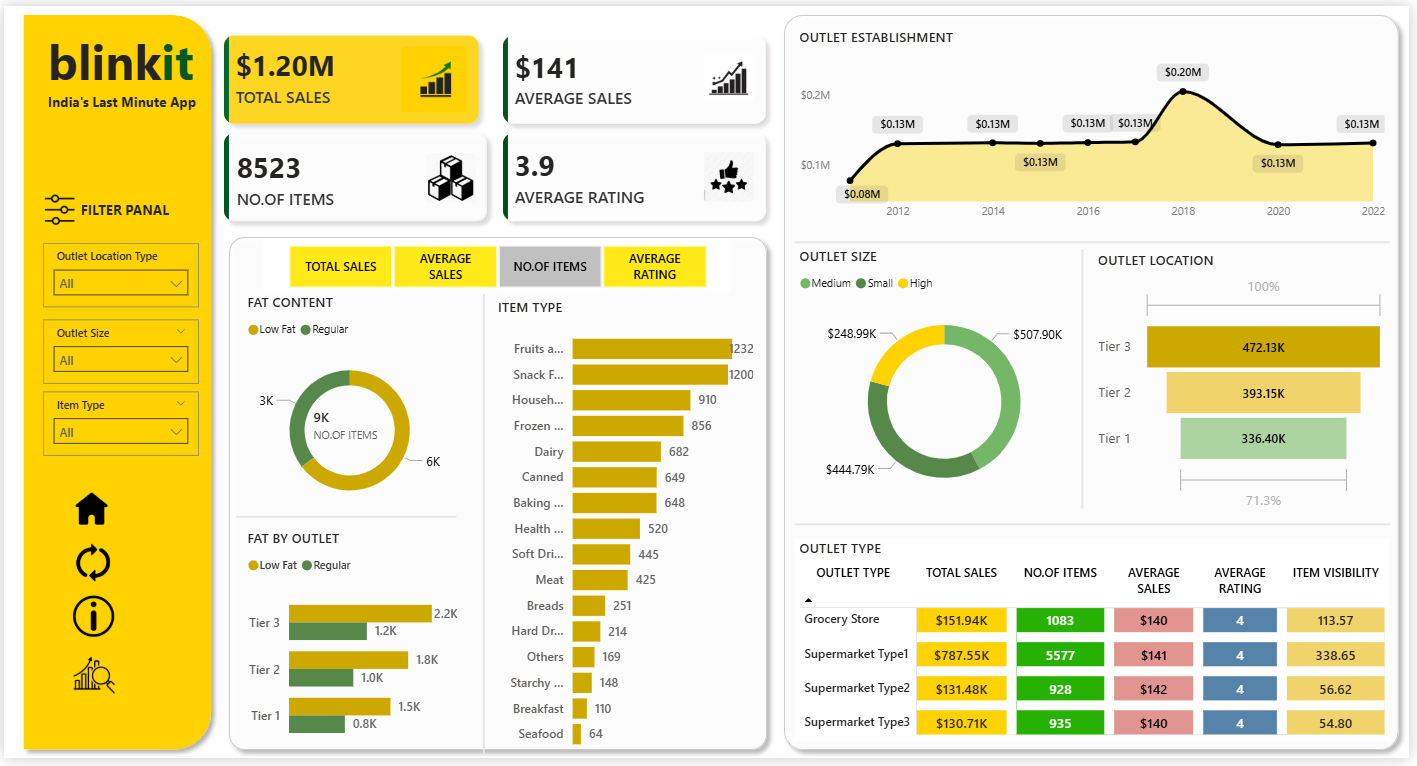

Layout of this report page (visuals, bound fields, positions):
{"tool":"powerbi","page":{"name":"Page 1","canvas":[1400,750],"ordinal":0},"visuals":[{"type":"shape","box":[10,0,205,750],"z":0},{"type":"textbox","box":[39.3,16.5,194.3,121.9],"z":1000},{"type":"cardVisual","fields":{"Data":["BlinkIT Grocery Data.Total Sales"]},"box":[190.2,0,312.1,146.8],"z":2000},{"type":"cardVisual","fields":{"Data":["BlinkIT Grocery Data.Avg Sales"]},"box":[467.1,0,320,146.8],"z":3000},{"type":"cardVisual","fields":{"Data":["BlinkIT Grocery Data.No.of Items"]},"box":[190.2,97.1,320,146.8],"z":4000},{"type":"cardVisual","fields":{"Data":["BlinkIT Grocery Data.Avg Rating"]},"box":[467.1,97.1,320,146.8],"z":5000},{"type":"shape","box":[215,221.2,553.9,529.1],"z":6000},{"type":"donutChart","title":"FAT CONTENT","fields":{"Y":["BlinkIT Grocery Data.NO.OF ITEMS"],"Category":["BlinkIT Grocery Data.Item Fat Content"]},"box":[237.7,285.2,212.9,229.4],"z":7000},{"type":"slicer","fields":{"Values":["Matrics.Matrics"]},"box":[258.4,231.5,465.1,53.7],"z":8000},{"type":"cardVisual","fields":{"Data":["BlinkIT Grocery Data.NO.OF ITEMS"]},"box":[279,374.1,142.6,86.8],"z":9000},{"type":"clusteredBarChart","title":"FAT BY OUTLET","fields":{"Y":["BlinkIT Grocery Data.NO.OF ITEMS"],"Category":["BlinkIT Grocery Data.Outlet Location Type"],"Series":["BlinkIT Grocery Data.Item Fat Content"]},"box":[237.7,520.9,219.1,229.4],"z":10000},{"type":"shape","box":[231.5,500.2,219.1,16.5],"z":11000},{"type":"shape","box":[467.1,287.3,20.7,458.9],"z":12000},{"type":"barChart","title":"ITEM TYPE","fields":{"Y":["BlinkIT Grocery Data.NO.OF ITEMS"],"Category":["BlinkIT Grocery Data.Item Type"]},"box":[487.8,289.4,264.6,460.9],"z":13000},{"type":"shape","box":[768.9,0,630.4,750.3],"z":14000},{"type":"lineChart","title":"OUTLET ESTABLISHMENT","fields":{"Category":["BlinkIT Grocery Data.Outlet Establishment Year"],"Y":["BlinkIT Grocery Data.TOTAL SALES"]},"box":[787.5,20.7,593.2,200.5],"z":15000},{"type":"shape","box":[787.5,227.4,593.2,16.5],"z":16000},{"type":"donutChart","title":"OUTLET SIZE","fields":{"Y":["BlinkIT Grocery Data.TOTAL SALES"],"Category":["BlinkIT Grocery Data.Outlet Size"]},"box":[787.5,239.8,297.6,264.6],"z":17000},{"type":"shape","box":[1064.5,241.8,20.7,258.4],"z":18000},{"type":"funnel","title":"OUTLET LOCATION","fields":{"Y":["Sum(BlinkIT Grocery Data.Sales)"],"Category":["BlinkIT Grocery Data.Outlet Location Type"]},"box":[1085.1,243.9,295.6,264.6],"z":19000},{"type":"shape","box":[787.5,508.5,593.2,16.5],"z":20000},{"type":"pivotTable","title":"OUTLET TYPE","fields":{"Rows":["BlinkIT Grocery Data.Outlet Type"],"Values":["BlinkIT Grocery Data.TOTAL SALES","BlinkIT Grocery Data.NO.OF ITEMS","BlinkIT Grocery Data.AVERAGE SALES","BlinkIT Grocery Data.AVERAGE RATING","Sum(BlinkIT Grocery Data.Item Visibility)"]},"box":[787.5,531.2,593.2,202.6],"z":21000},{"type":"slicer","fields":{"Values":["BlinkIT Grocery Data.Outlet Location Type"]},"box":[39.3,235.6,155,64.1],"z":22000},{"type":"slicer","fields":{"Values":["BlinkIT Grocery Data.Outlet Size"]},"box":[39.3,312.1,155,64.1],"z":23000},{"type":"slicer","fields":{"Values":["BlinkIT Grocery Data.Item Type"]},"box":[39.3,384.5,155,64.1],"z":24000},{"type":"textbox","box":[72.3,188.1,128.2,47.5],"z":25000},{"type":"image","box":[39.3,186,33.1,35.1],"z":26000},{"type":"image","box":[55.8,465.1,64.1,72.3],"z":26001},{"type":"image","box":[70.3,531.2,37.2,47.5],"z":26002},{"type":"image","box":[57.9,584.9,62,47.5],"z":26003},{"type":"image","box":[41.4,631.8,95.9,69.7],"z":26004}]}

Visuals, with their boxes in screenshot pixels (x1, y1, x2, y2), scaled from the page's 1400x750 canvas onto the 1417x766 screenshot:
shape: select_region(10, 0, 218, 765)
textbox: select_region(40, 17, 236, 141)
cardVisual - BlinkIT Grocery Data.Total Sales: select_region(193, 0, 508, 150)
cardVisual - BlinkIT Grocery Data.Avg Sales: select_region(473, 0, 797, 150)
cardVisual - BlinkIT Grocery Data.No.of Items: select_region(193, 99, 516, 249)
cardVisual - BlinkIT Grocery Data.Avg Rating: select_region(473, 99, 797, 249)
shape: select_region(218, 226, 778, 765)
"FAT CONTENT" donutChart: select_region(241, 291, 456, 526)
slicer - Matrics.Matrics: select_region(262, 236, 732, 291)
cardVisual - BlinkIT Grocery Data.NO.OF ITEMS: select_region(282, 382, 427, 471)
"FAT BY OUTLET" clusteredBarChart: select_region(241, 532, 462, 765)
shape: select_region(234, 511, 456, 528)
shape: select_region(473, 293, 494, 762)
"ITEM TYPE" barChart: select_region(494, 296, 762, 765)
shape: select_region(778, 0, 1416, 765)
"OUTLET ESTABLISHMENT" lineChart: select_region(797, 21, 1397, 226)
shape: select_region(797, 232, 1397, 249)
"OUTLET SIZE" donutChart: select_region(797, 245, 1098, 515)
shape: select_region(1077, 247, 1098, 511)
"OUTLET LOCATION" funnel: select_region(1098, 249, 1397, 519)
shape: select_region(797, 519, 1397, 536)
"OUTLET TYPE" pivotTable: select_region(797, 543, 1397, 749)
slicer - BlinkIT Grocery Data.Outlet Location Type: select_region(40, 241, 197, 306)
slicer - BlinkIT Grocery Data.Outlet Size: select_region(40, 319, 197, 384)
slicer - BlinkIT Grocery Data.Item Type: select_region(40, 393, 197, 458)
textbox: select_region(73, 192, 203, 241)
image: select_region(40, 190, 73, 226)
image: select_region(56, 475, 121, 549)
image: select_region(71, 543, 109, 591)
image: select_region(59, 597, 121, 646)
image: select_region(42, 645, 139, 716)
